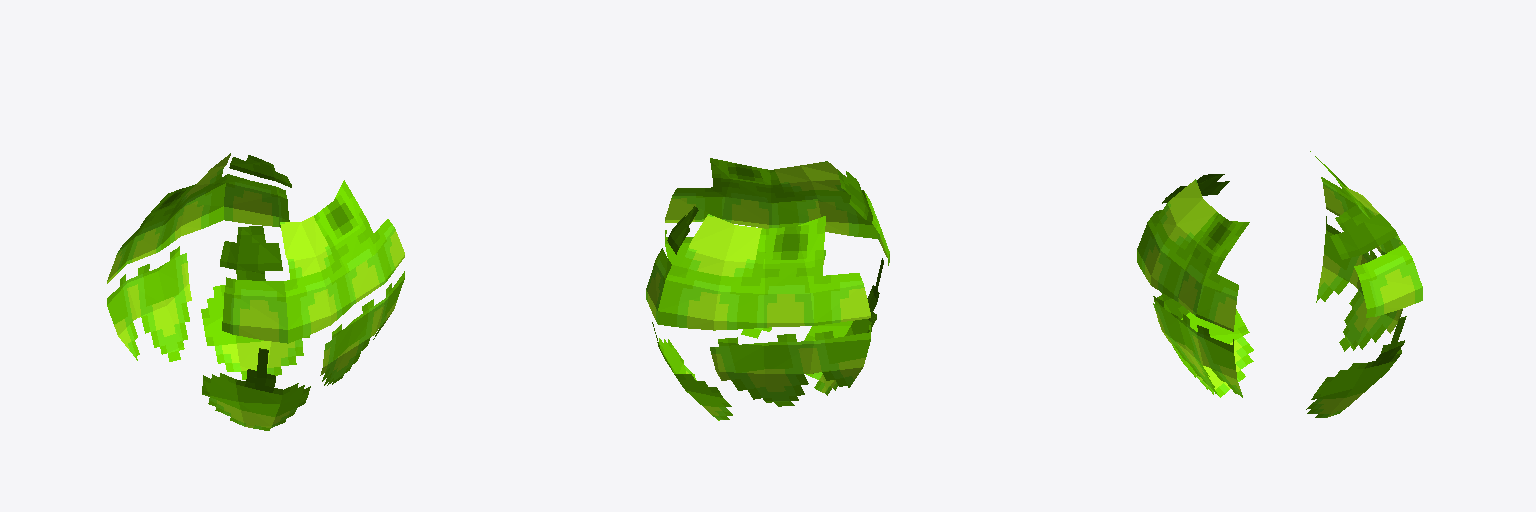
3 renders of one model, left to right at view 1: azimuth 30°, elevation 25°; view 2: azimuth 150°, elevation 25°; view 3: azimuth 270°, elevation 25°, orthographic.
Visible parts, largest first — view 1: Body_DendroCore; view 2: Body_DendroCore; view 3: Body_DendroCore.
Part boxes in pixels (left/top/right/bottom): Body_DendroCore: left=107, top=153, right=404, bottom=430; Body_DendroCore: left=646, top=158, right=889, bottom=420; Body_DendroCore: left=1137, top=151, right=1422, bottom=417.
Size of the model in its own units: 0.1656 by 0.2671 by 0.162.
1 materials, 1 textured.